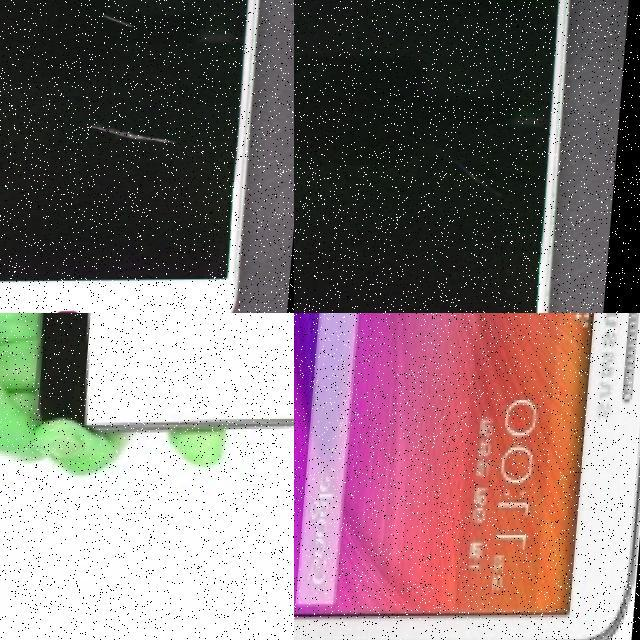scratch: (91, 117, 195, 156), (459, 162, 520, 200), (97, 11, 146, 36)
